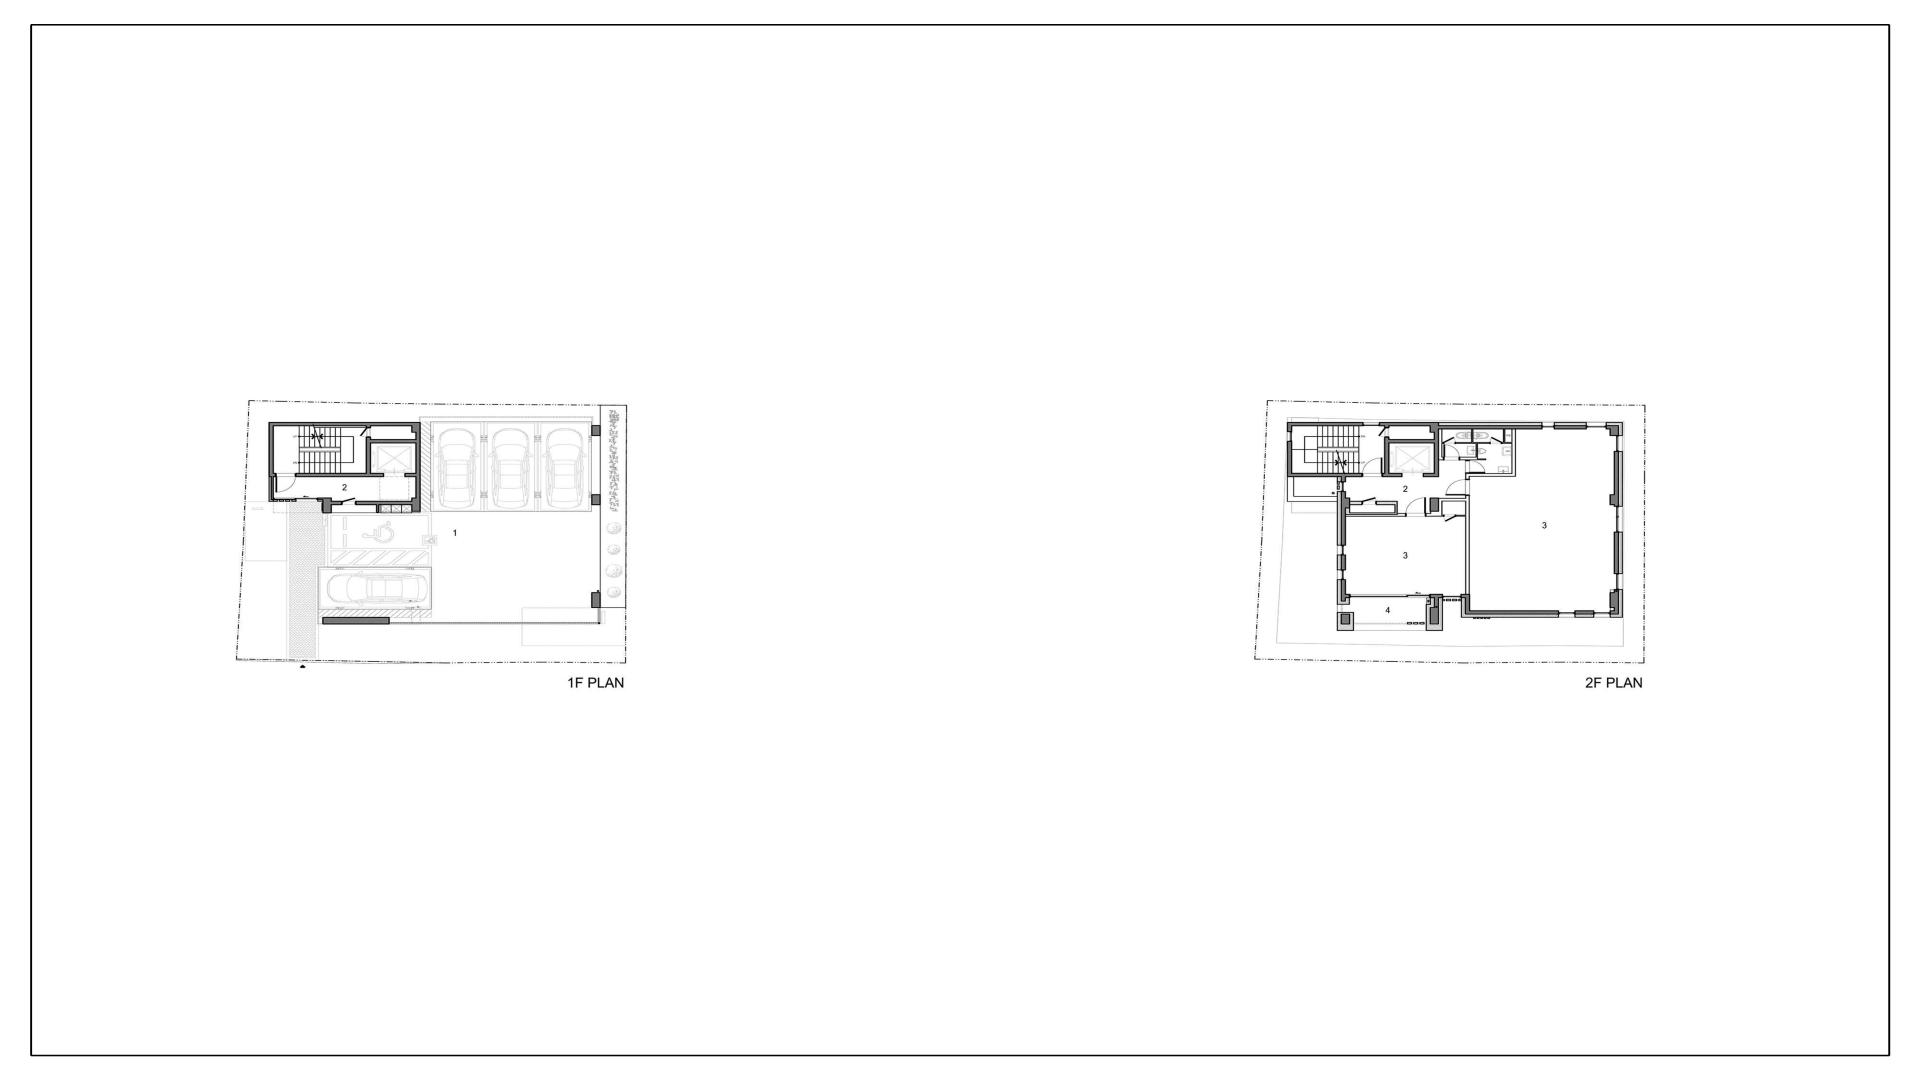door: (1445, 479, 1470, 496), (1406, 497, 1427, 517), (1362, 458, 1382, 477), (276, 473, 295, 492), (1443, 444, 1460, 460), (1465, 460, 1485, 473), (273, 497, 316, 501), (1362, 497, 1377, 505), (360, 427, 371, 438), (1378, 427, 1390, 436), (1443, 436, 1456, 444), (343, 497, 356, 505), (1444, 514, 1456, 522), (1490, 436, 1502, 443)
wall: (269, 422, 411, 426), (1439, 425, 1543, 430), (1465, 496, 1470, 593), (323, 617, 389, 624), (1470, 611, 1559, 615), (295, 473, 384, 477), (415, 433, 421, 497), (1292, 422, 1364, 426), (1439, 422, 1543, 425), (389, 622, 597, 624), (1427, 501, 1444, 517), (1461, 615, 1559, 617), (316, 497, 332, 513), (269, 426, 274, 473), (1511, 429, 1516, 473), (1614, 451, 1619, 495), (1614, 531, 1619, 574), (1619, 451, 1623, 506), (356, 501, 411, 505), (1433, 433, 1439, 473), (1337, 492, 1341, 545), (1341, 508, 1346, 546), (1379, 422, 1429, 426), (1610, 589, 1619, 611), (1385, 436, 1390, 473), (365, 436, 371, 473), (1292, 473, 1341, 477), (1287, 442, 1292, 477), (371, 439, 415, 443), (1390, 439, 1433, 443), (1555, 425, 1586, 430), (1619, 531, 1623, 574), (591, 592, 601, 608), (1341, 492, 1350, 508), (1429, 608, 1439, 624), (1345, 514, 1398, 517), (1606, 425, 1619, 435), (1429, 497, 1439, 512), (411, 497, 421, 512), (1439, 597, 1443, 630), (1469, 473, 1516, 476), (1555, 422, 1586, 426), (591, 425, 601, 436), (1341, 580, 1346, 601), (591, 495, 601, 505), (1610, 495, 1619, 506), (1439, 429, 1443, 456), (1425, 604, 1429, 630), (1337, 579, 1341, 604), (1619, 589, 1623, 615), (1429, 422, 1439, 433), (411, 422, 421, 433), (1465, 597, 1470, 615), (270, 477, 274, 500), (1341, 615, 1350, 624), (1377, 501, 1398, 505), (1382, 473, 1403, 477), (1575, 611, 1594, 615), (1341, 555, 1346, 570), (1460, 456, 1478, 460), (1439, 498, 1465, 501), (1461, 597, 1465, 615), (1345, 513, 1394, 514), (1337, 615, 1341, 630), (1350, 615, 1354, 630), (1346, 473, 1362, 477), (1423, 473, 1439, 477), (1341, 624, 1350, 630), (1429, 624, 1439, 630), (1337, 555, 1341, 570), (1433, 597, 1439, 608), (1429, 593, 1443, 597), (1575, 615, 1594, 617), (1619, 422, 1623, 435), (1606, 422, 1619, 426), (1287, 422, 1292, 431), (1350, 501, 1362, 505), (1456, 442, 1490, 443), (1337, 612, 1354, 615), (1429, 597, 1433, 608), (1341, 473, 1346, 481), (332, 501, 343, 505), (405, 473, 415, 477), (597, 608, 600, 624), (1394, 505, 1398, 514), (1461, 593, 1470, 597), (1610, 611, 1619, 615), (1476, 443, 1478, 456), (1610, 615, 1623, 617), (1398, 513, 1406, 517), (376, 505, 380, 513), (1465, 473, 1470, 479), (1345, 508, 1350, 513), (269, 473, 276, 477), (1456, 514, 1465, 517), (1341, 601, 1349, 604), (1472, 429, 1473, 442), (1503, 429, 1505, 442), (1346, 593, 1350, 597), (1346, 597, 1350, 601), (1439, 456, 1443, 460), (1502, 442, 1511, 443), (1478, 459, 1486, 460), (1385, 426, 1390, 427), (365, 426, 371, 427), (1443, 442, 1443, 443)
window: (1354, 622, 1425, 630), (1350, 593, 1429, 597), (1614, 506, 1625, 531), (1586, 421, 1606, 430), (1614, 435, 1625, 451), (1443, 593, 1461, 601), (1614, 574, 1623, 589), (1559, 611, 1576, 617), (1543, 421, 1555, 430), (1594, 611, 1610, 617), (1337, 481, 1346, 492), (1337, 545, 1346, 555), (1337, 570, 1346, 580), (1364, 422, 1379, 426), (1287, 431, 1292, 442), (1337, 604, 1342, 612)
